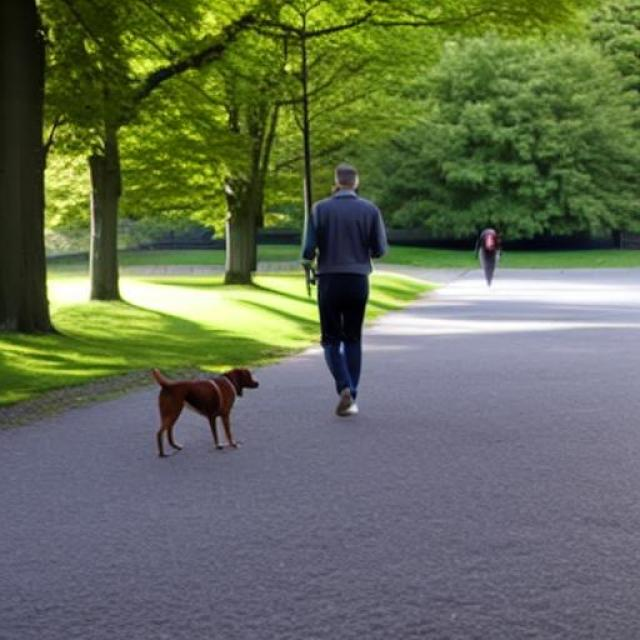Unleashed_Dog: (151, 270, 368, 460)
